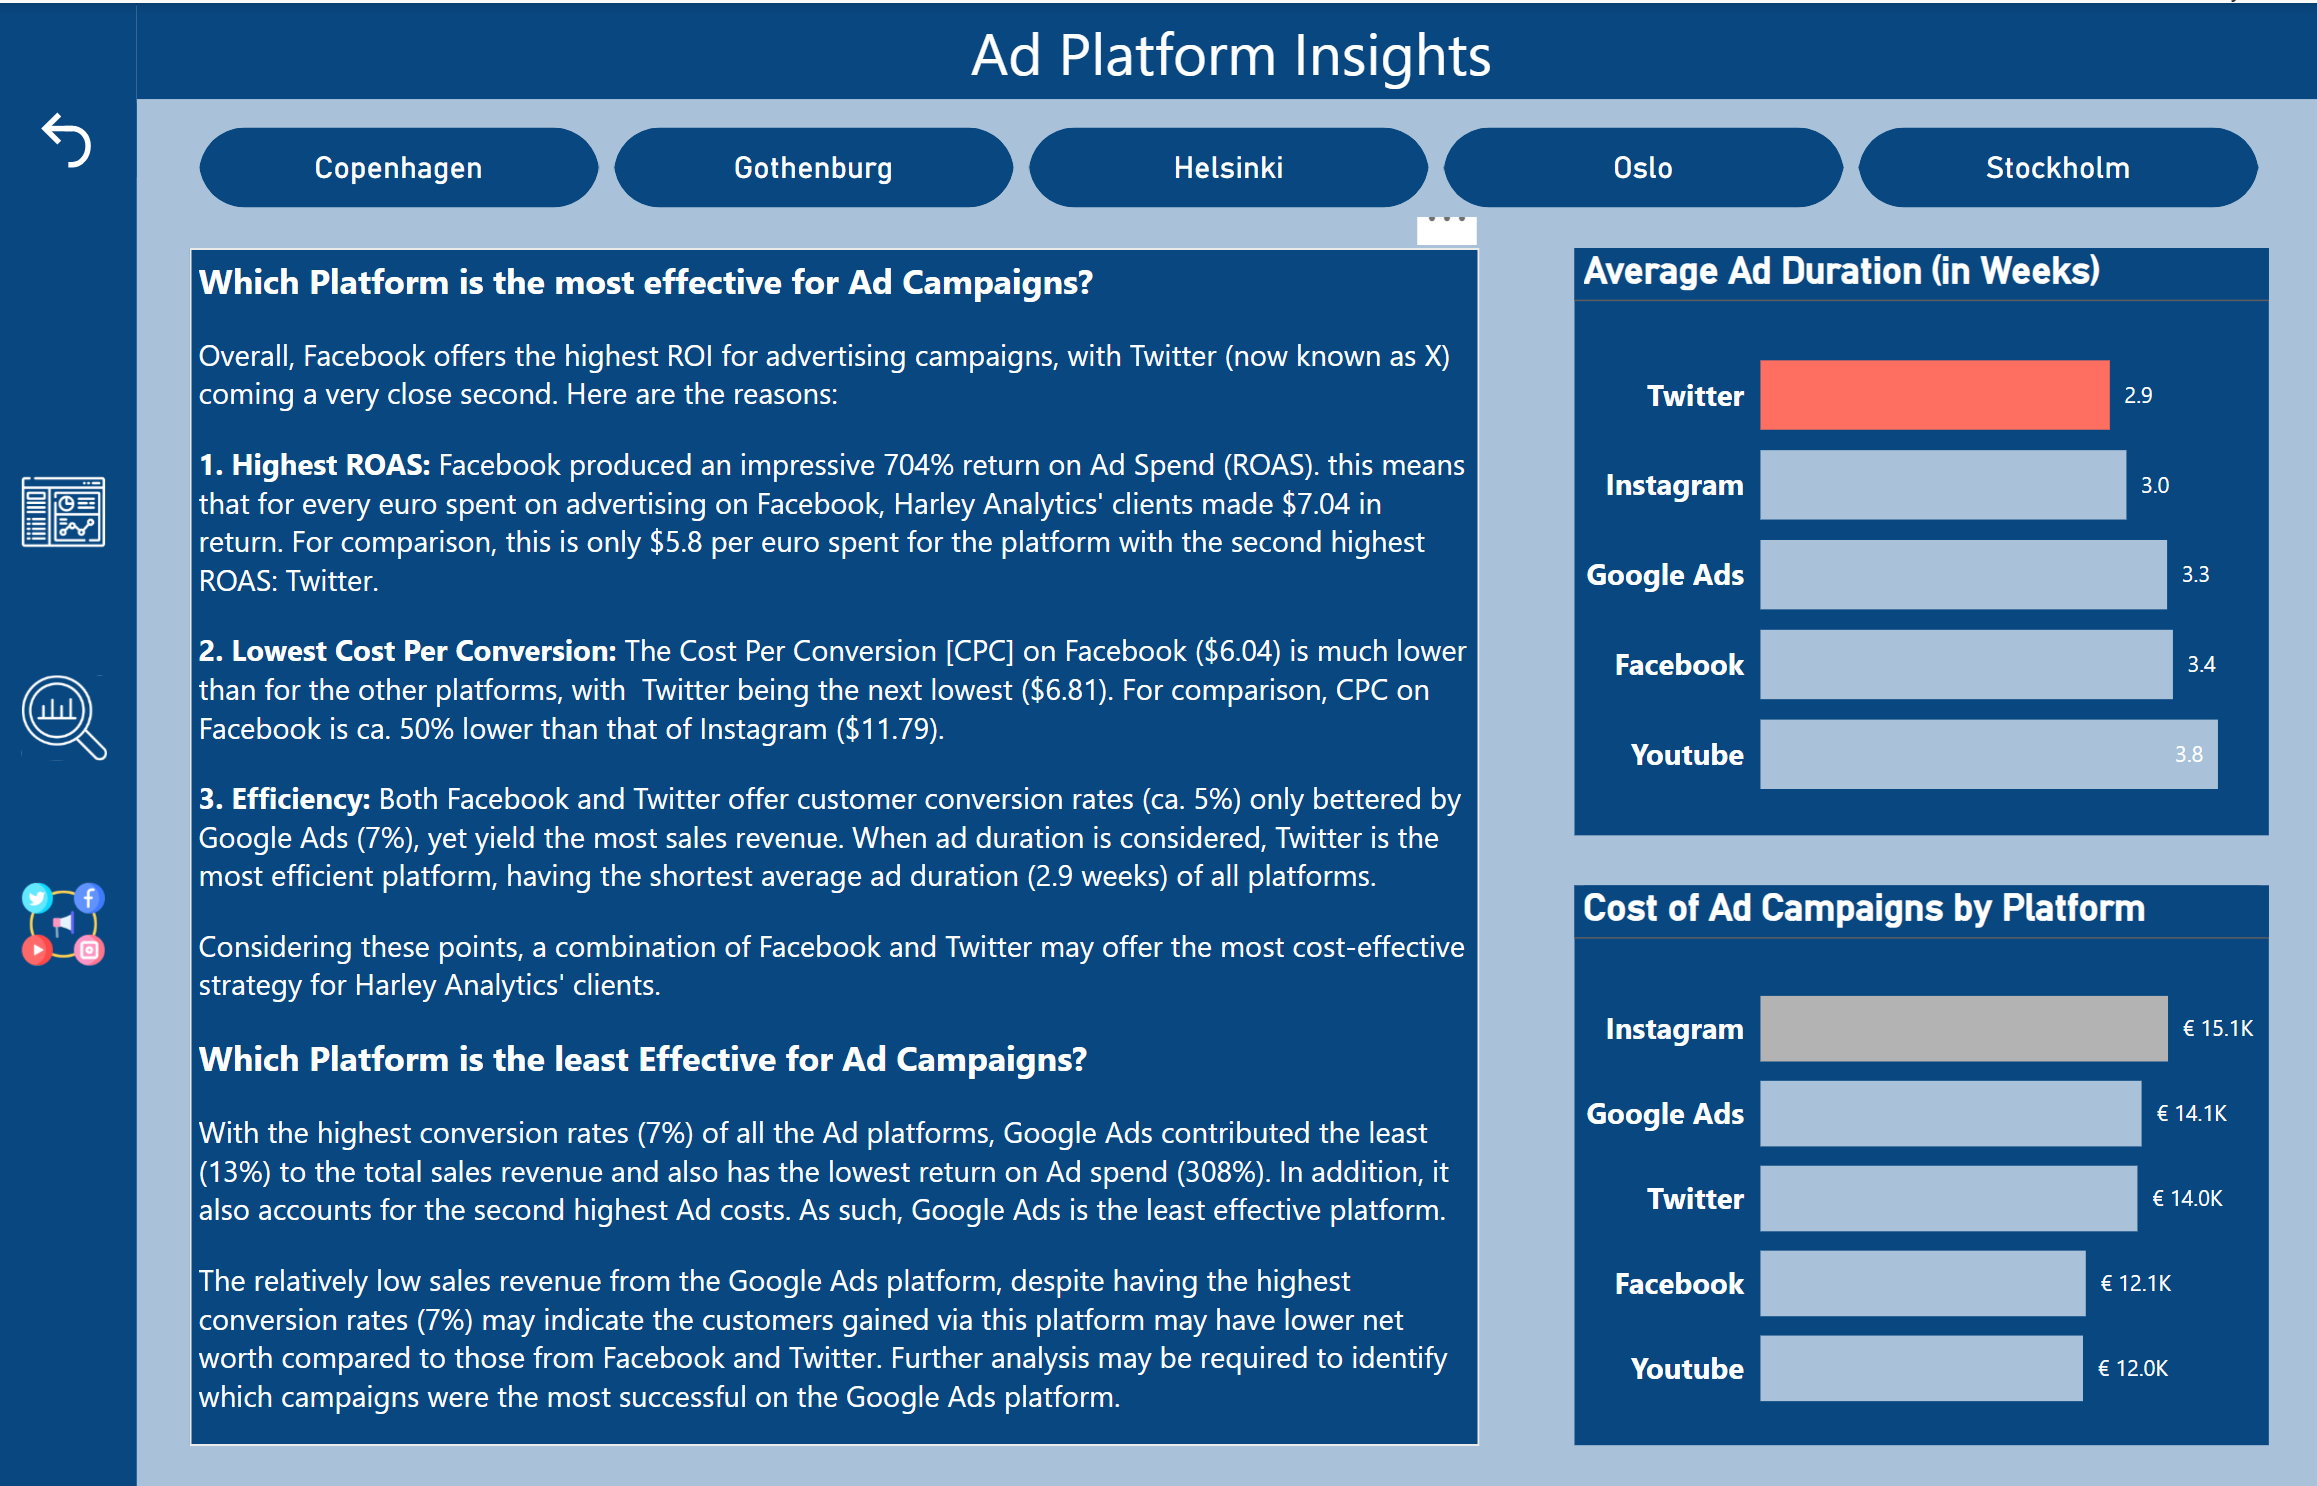

What the dashboard file says about the page in this screenshot:
{"tool":"powerbi","page":{"name":"Ad Platform Insights","canvas":[1280,820],"ordinal":1},"visuals":[{"type":"textbox","box":[105.8,134.7,748.8,630.7],"z":0},{"type":"shape","box":[0,0,76.9,820.3],"z":1000},{"type":"textbox","box":[76.9,0,1203.1,52.8],"z":2000},{"type":"barChart","title":"Average Ad Duration (in Weeks)","fields":{"Category":["Marketing_data.Platform"],"Y":["Avg(Marketing_data.AdDurationWeeks)"]},"box":[878,134.7,371,300.9],"z":3000},{"type":"barChart","title":"Cost of Ad Campaigns by Platform","fields":{"Category":["Marketing_data.Platform"],"Y":["Sum(Marketing_data.Cost)"]},"box":[878,460.3,371,305],"z":4000},{"type":"advancedSlicerVisual","fields":{"Values":["Marketing_data.City"]},"box":[105.5,63.3,1142.8,54.3],"z":5000},{"type":"actionButton","title":"Campaigns Button","box":[10.1,479.5,64.6,53.6],"z":6000},{"type":"actionButton","title":"Insights button","box":[10.1,365.8,64.6,55],"z":7000},{"type":"actionButton","title":"Platform Button","box":[10,253.2,64.8,53.8],"z":8000},{"type":"actionButton","box":[0,54.9,76.6,40.5],"z":9000}]}

Visuals, with their boxes on the page's 1280x820 design canvas (x1, y1, x2, y2). These are canvas units, not pixel positions in the 2317x1486 screenshot, which may show the page scaled, cropped or inside an application window:
textbox: Rect(106, 135, 855, 765)
shape: Rect(0, 0, 77, 820)
textbox: Rect(77, 0, 1280, 53)
"Average Ad Duration (in Weeks)" barChart: Rect(878, 135, 1249, 436)
"Cost of Ad Campaigns by Platform" barChart: Rect(878, 460, 1249, 765)
advancedSlicerVisual - Marketing_data.City: Rect(106, 63, 1248, 118)
"Campaigns Button" actionButton: Rect(10, 480, 75, 533)
"Insights button" actionButton: Rect(10, 366, 75, 421)
"Platform Button" actionButton: Rect(10, 253, 75, 307)
actionButton: Rect(0, 55, 77, 95)
